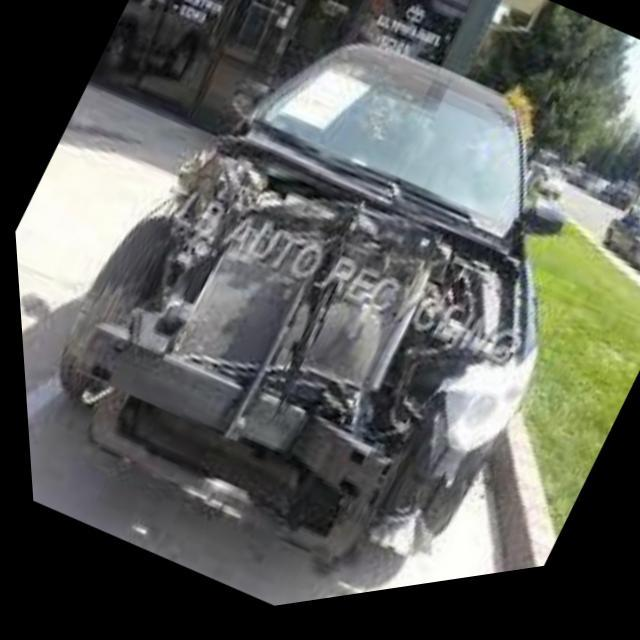no part: (82, 156, 522, 564)
